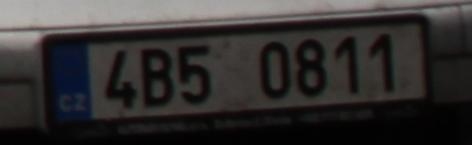0: (259, 41, 291, 97)
1: (335, 34, 360, 94), (369, 35, 394, 90)
4: (105, 51, 138, 108)
5: (177, 46, 213, 105)
8: (296, 39, 327, 97)
B: (140, 48, 174, 107)
